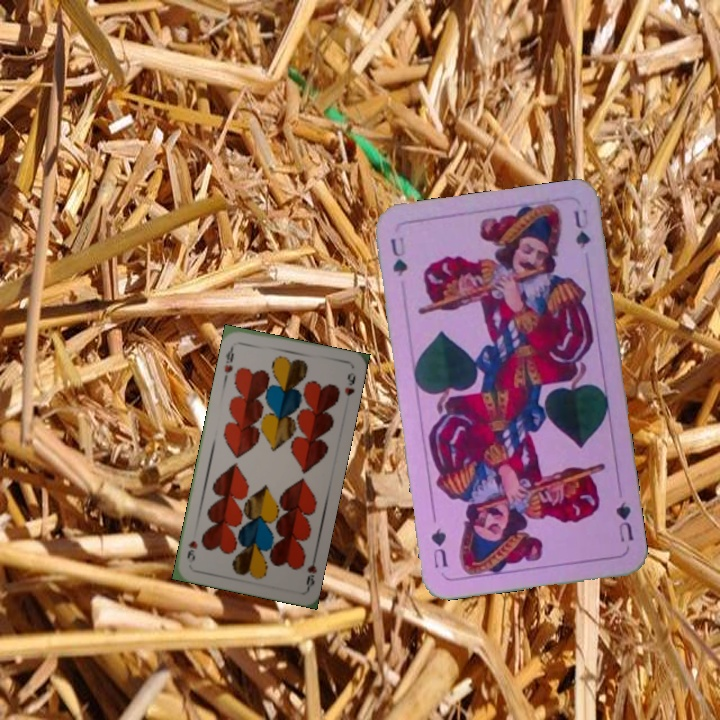GU: (611, 497, 636, 545), (386, 233, 410, 279)
H9: (302, 551, 320, 591), (220, 342, 237, 381)
